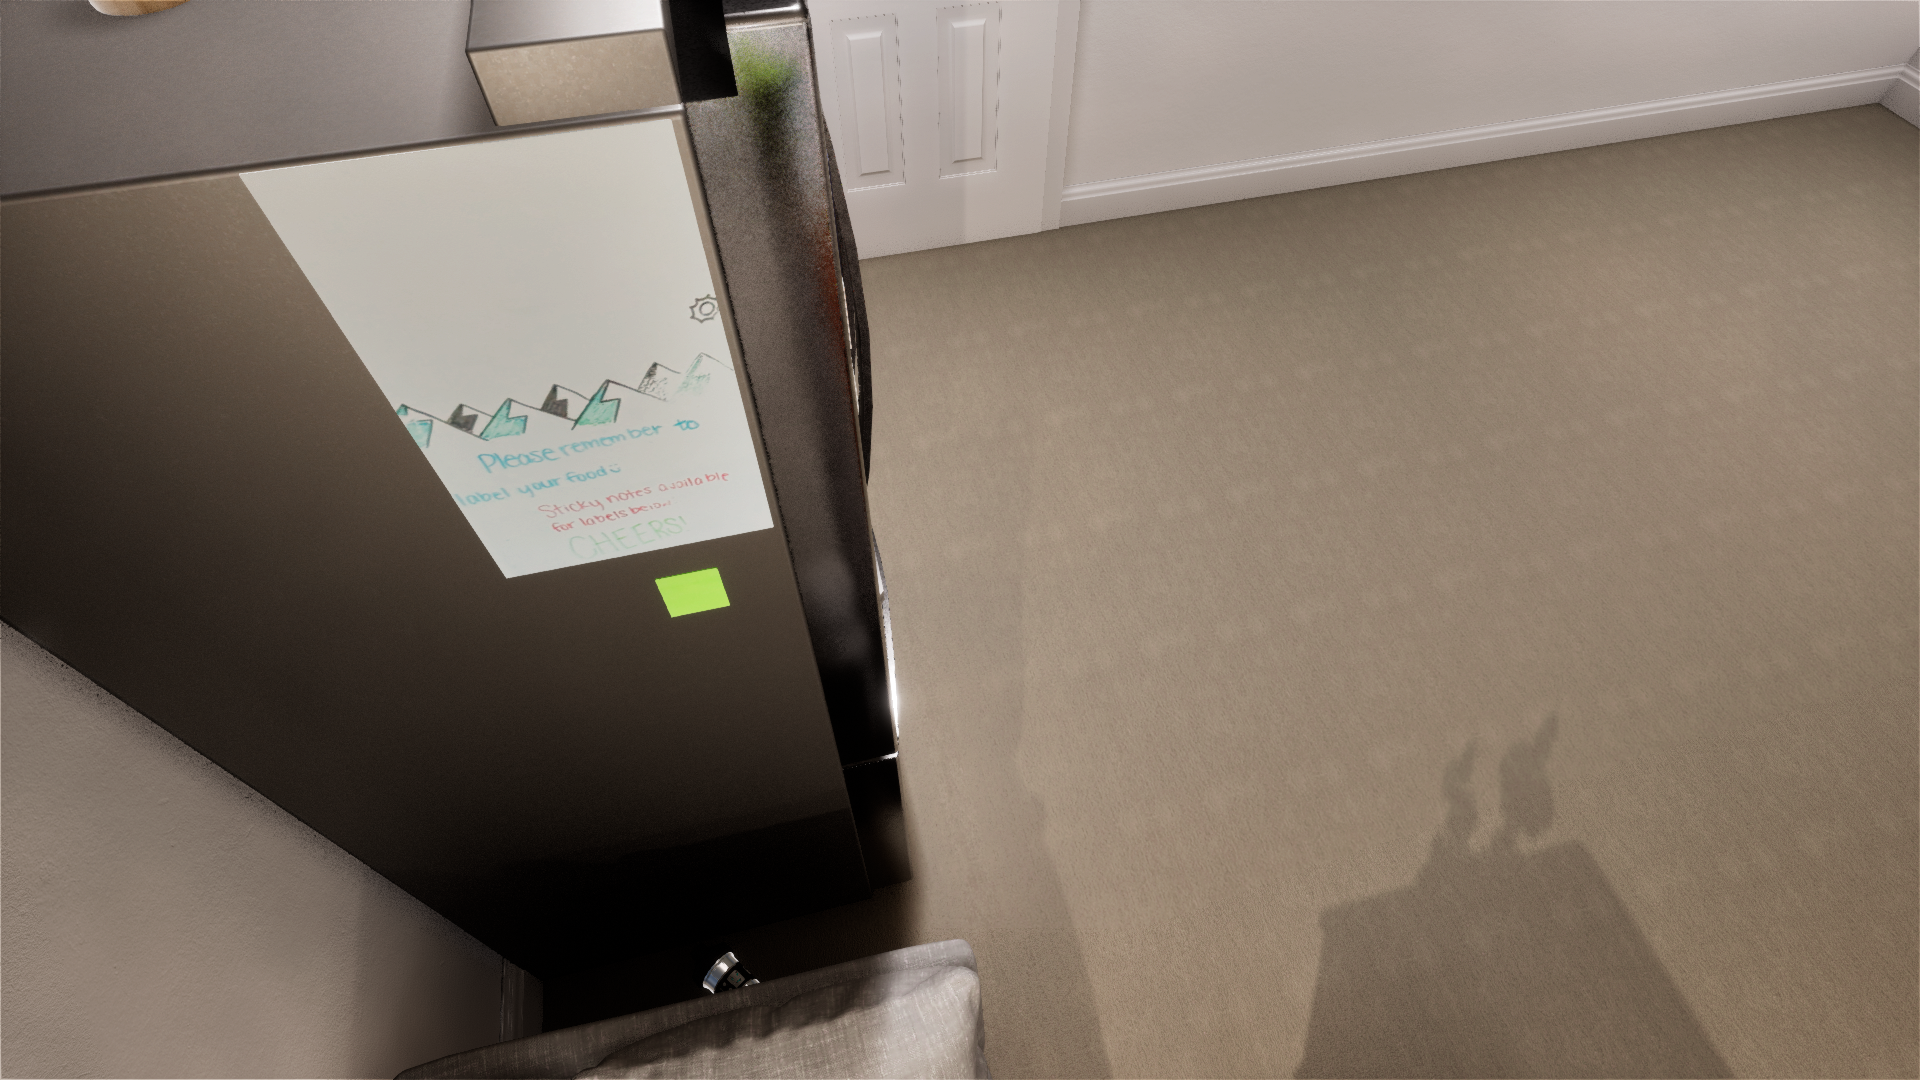cheerios: (716, 636, 822, 767)
soup: (818, 702, 843, 735)
